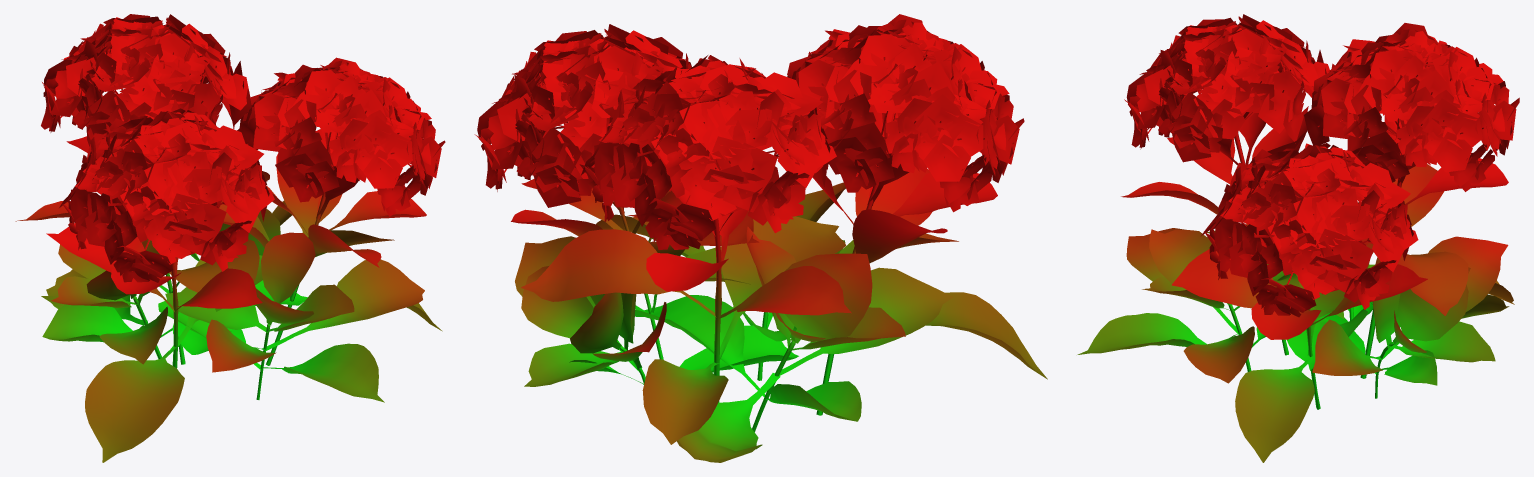
The model's file is Var8_LOD0.fbx.
3 views of the same model, side by side, from view 1: azimuth 30°, elevation 25°; view 2: azimuth 150°, elevation 25°; view 3: azimuth 270°, elevation 25° (orthographic). The views are drawn at different scales.
Visible parts, largest first — view 1: _ese5_Var8_LOD0; view 2: _ese5_Var8_LOD0; view 3: _ese5_Var8_LOD0.
Boxes of the visible parts, left/top/right/bottom form: _ese5_Var8_LOD0: left=15, top=14, right=445, bottom=462; _ese5_Var8_LOD0: left=474, top=14, right=1047, bottom=462; _ese5_Var8_LOD0: left=1077, top=14, right=1519, bottom=462.
Bounding box in the file's own units: 41.95 × 32.62 × 39.9.
